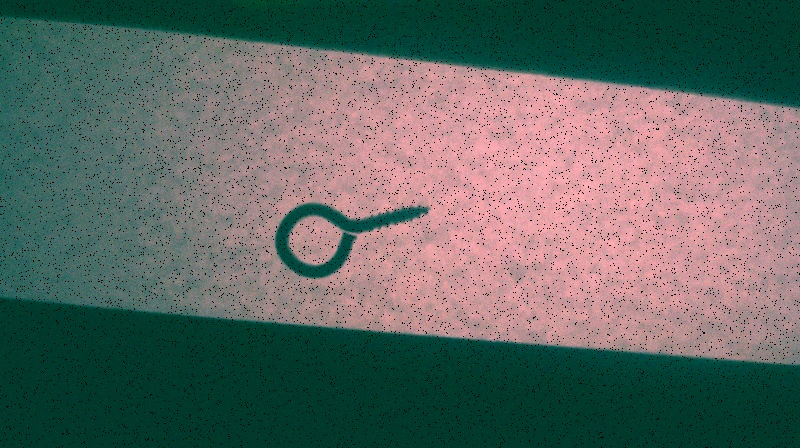O001: (271, 202, 432, 281)
